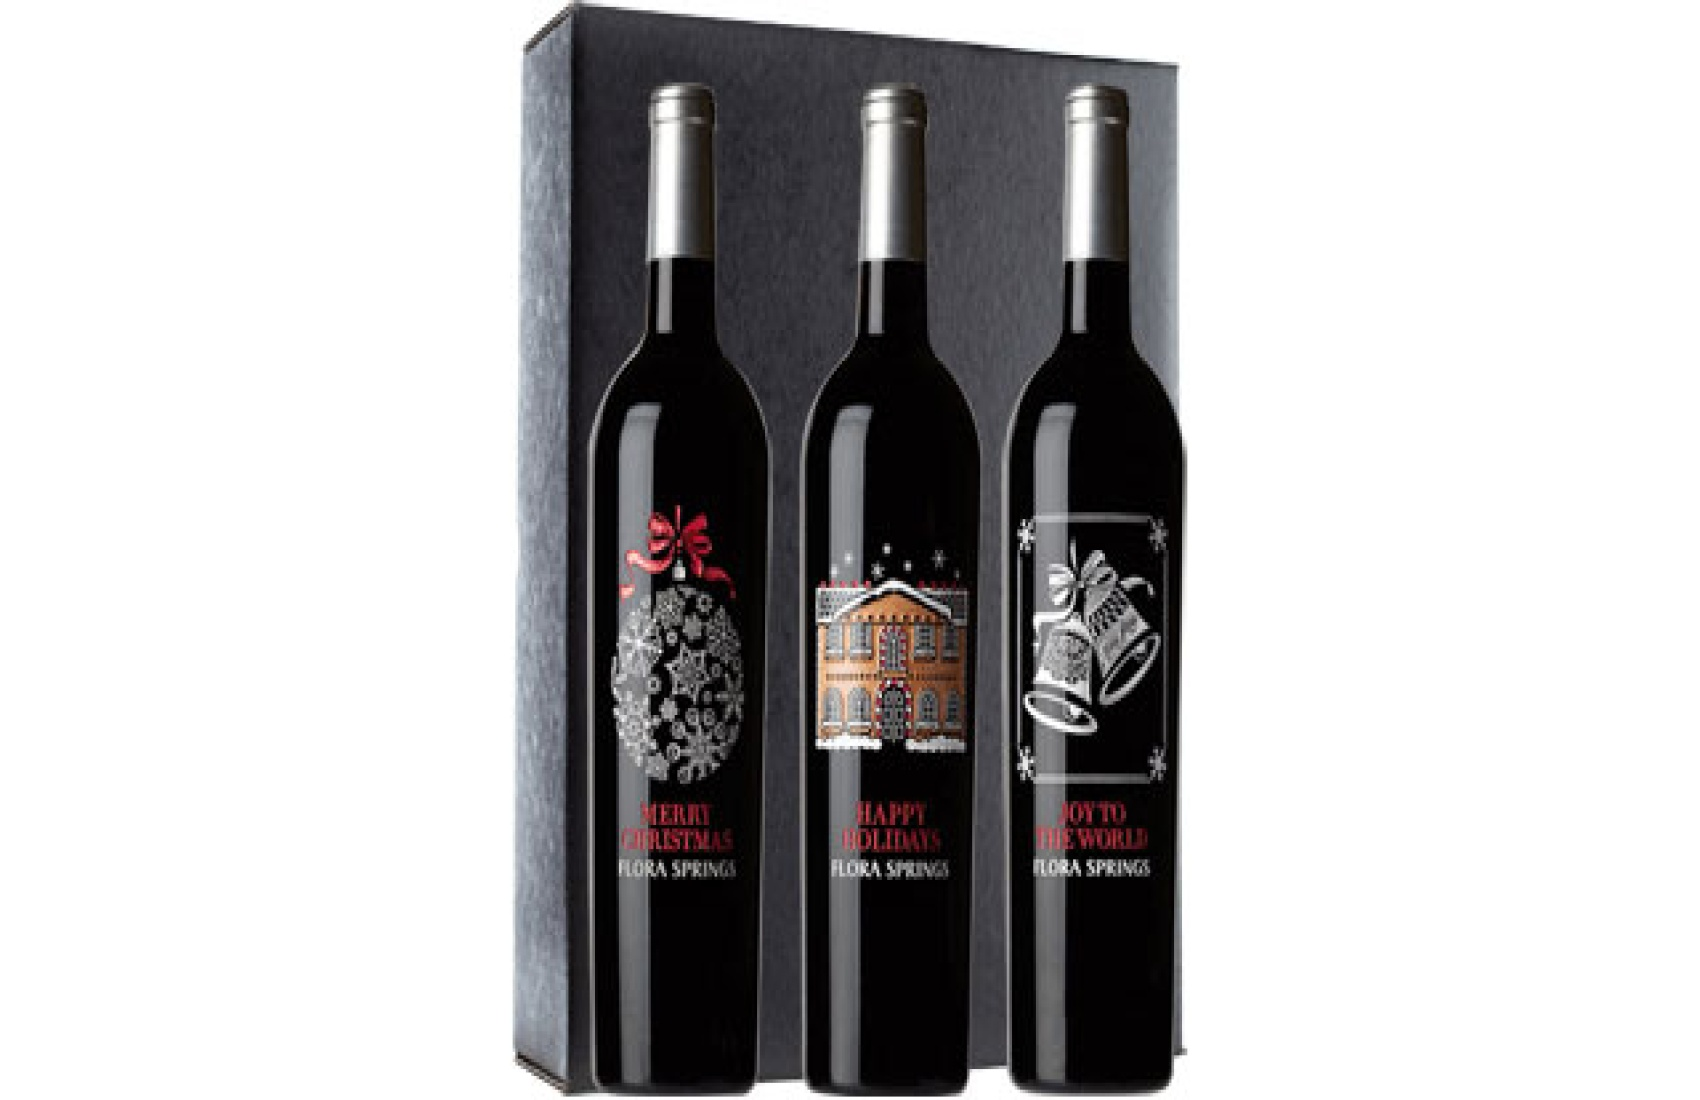wine: (802, 36, 980, 1094), (584, 36, 761, 1094), (996, 76, 1176, 1090)
